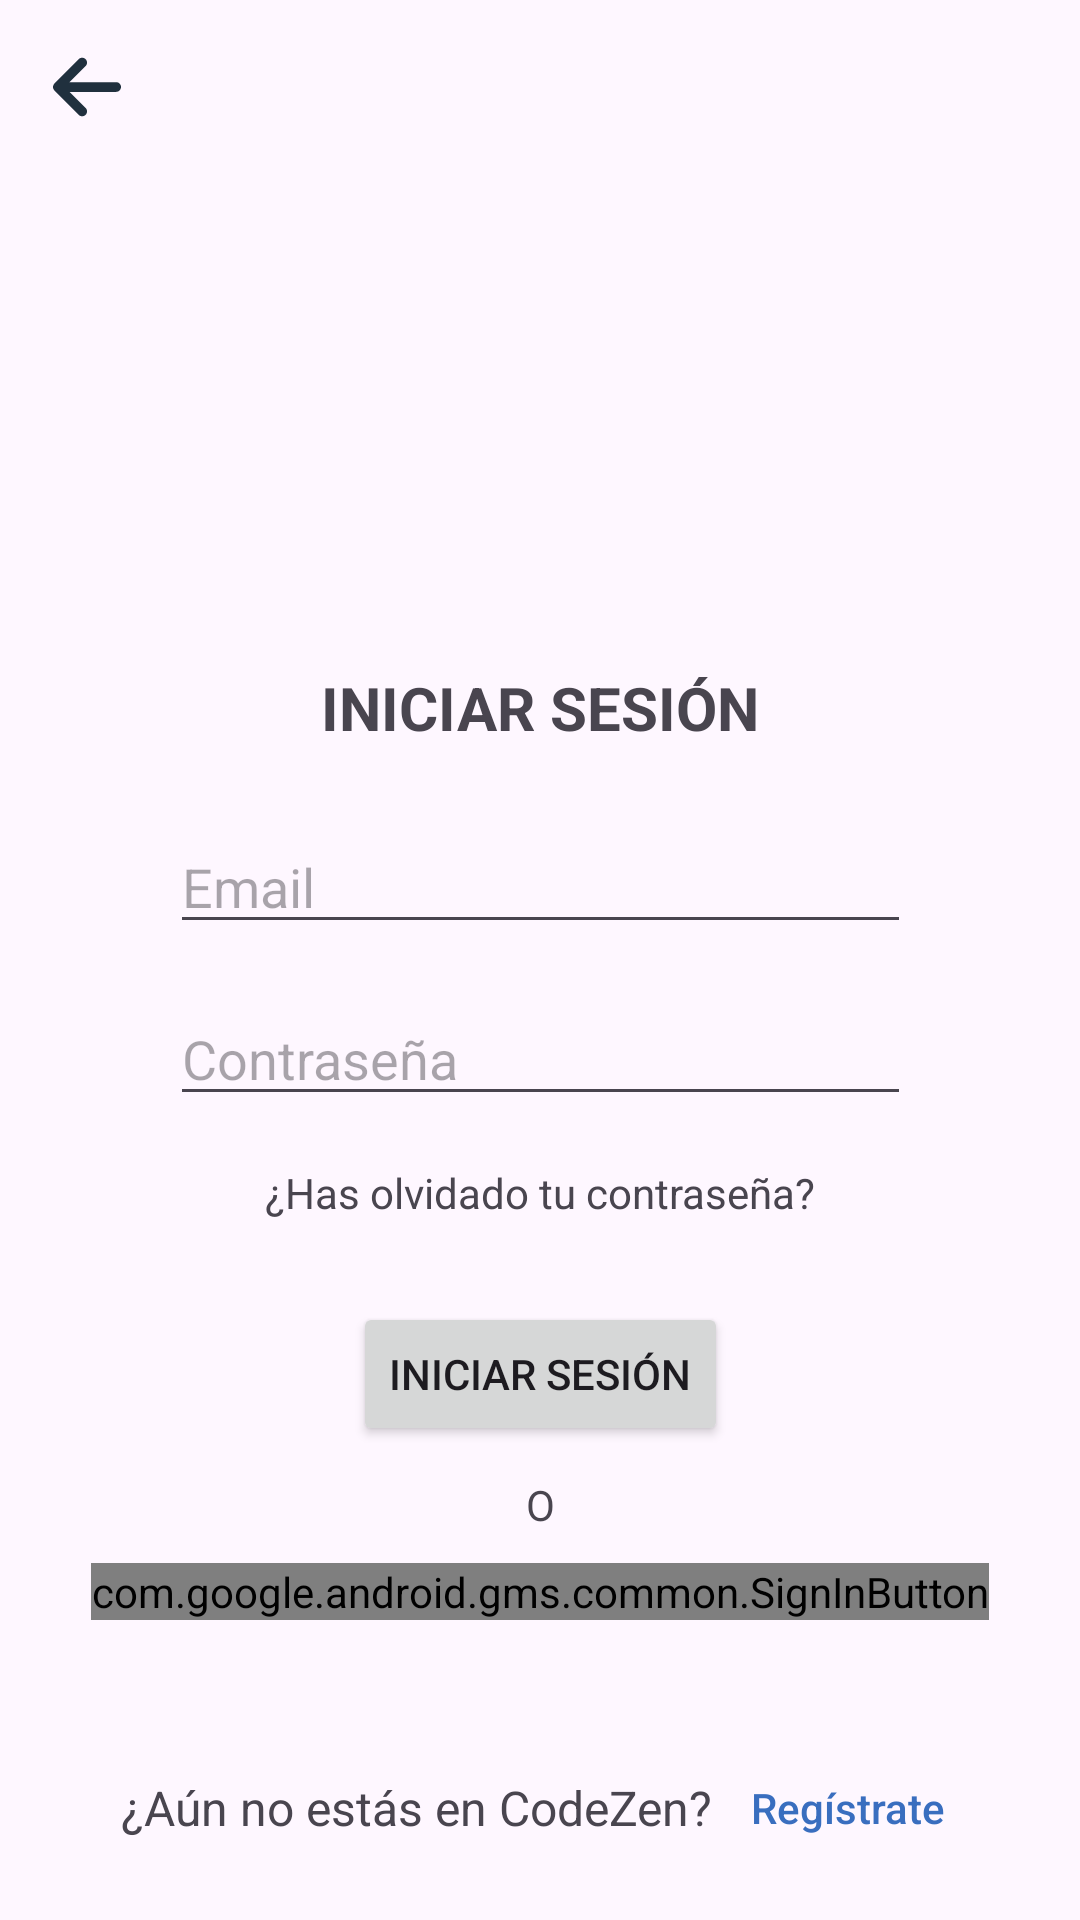

Screen size 1080px x 1920px. Icon name, then its center in pixels as (x,y):
go back arrow: (87,87)
